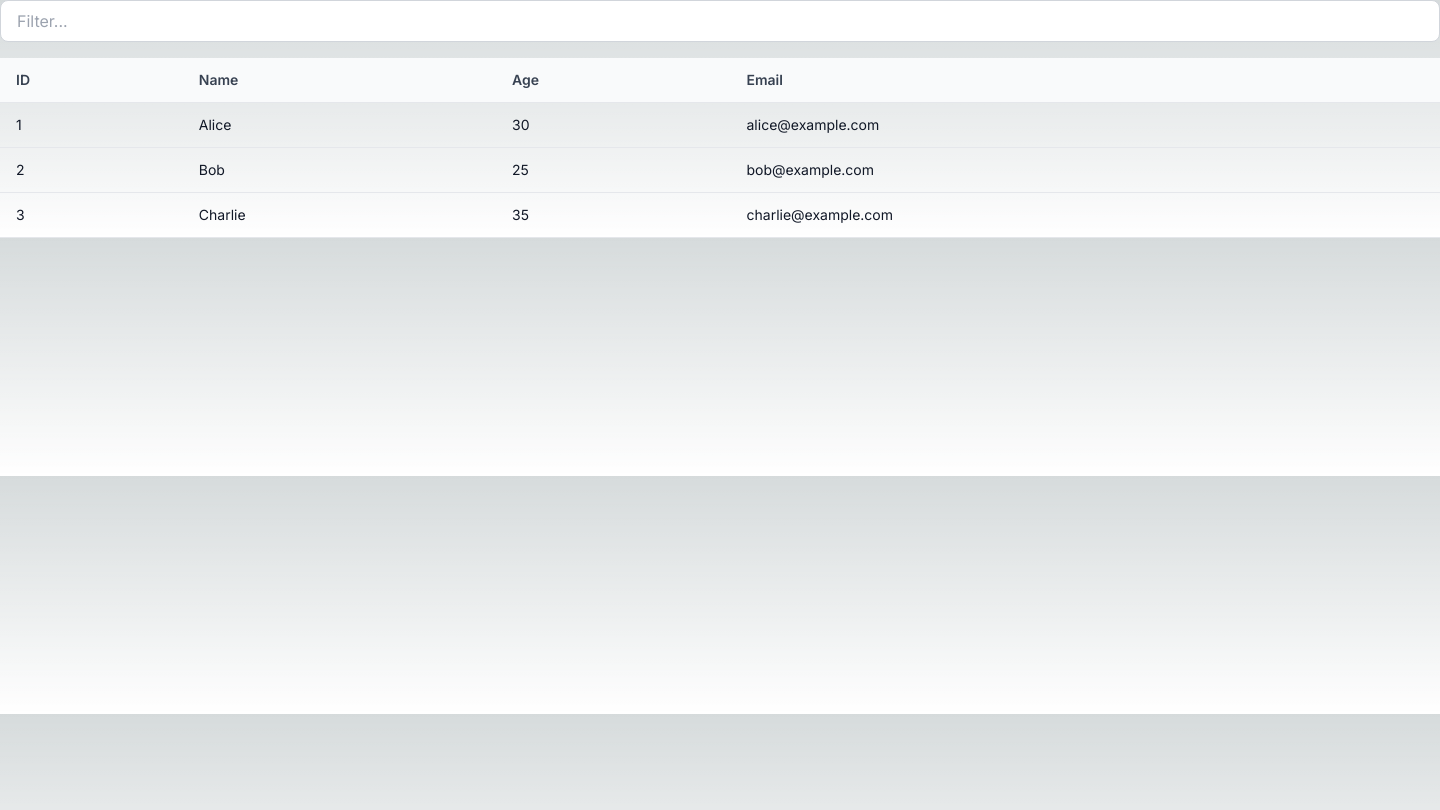
it: DataTable › filters data when filter text entered
This screenshot has width=1440, height=810.
Type "alice" into the field with placeholder "Filter..." at (720, 21), box [0, 0, 1439, 42]
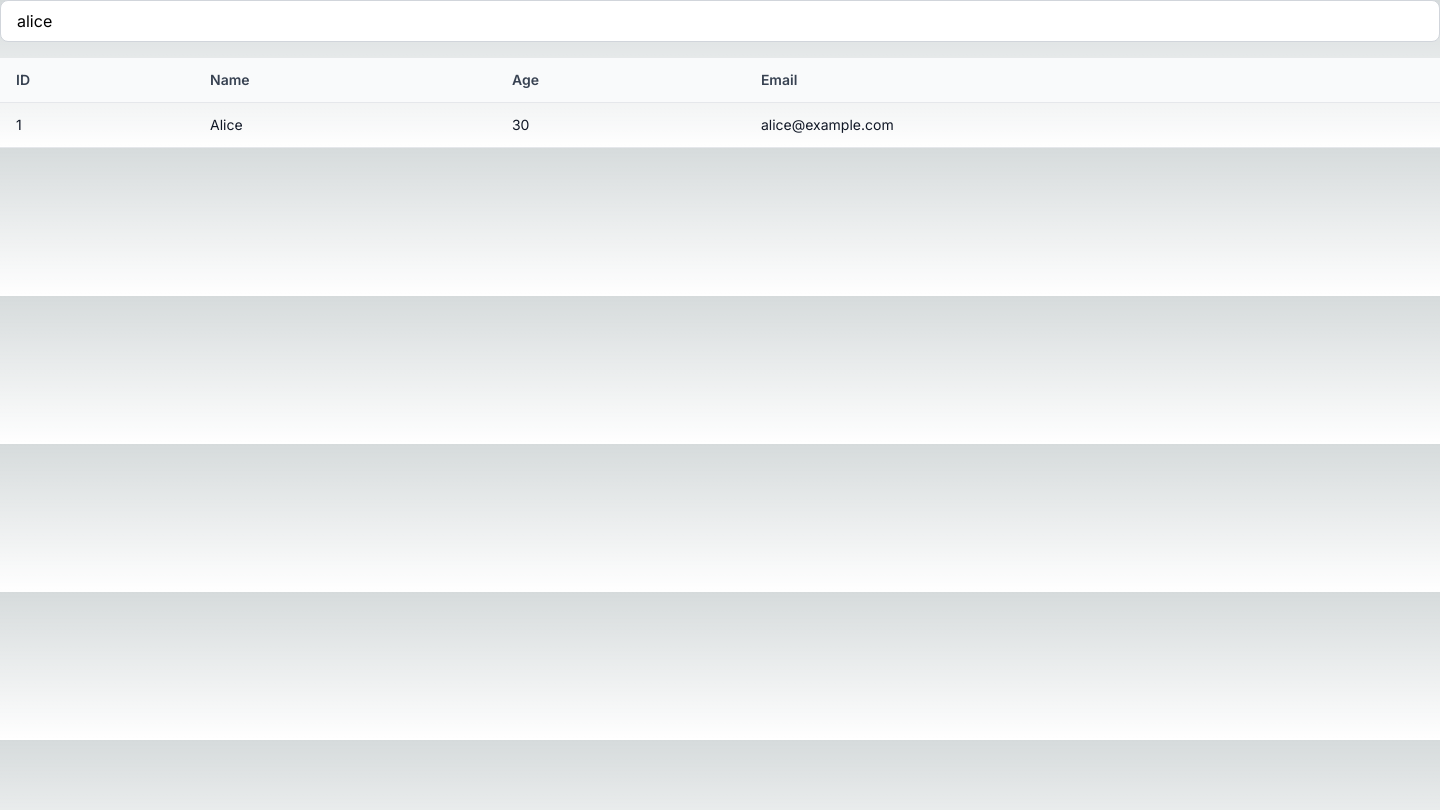
Expected: the text "Alice" is shown, [194, 102, 496, 148]
Result: the text "Bob" is gone
